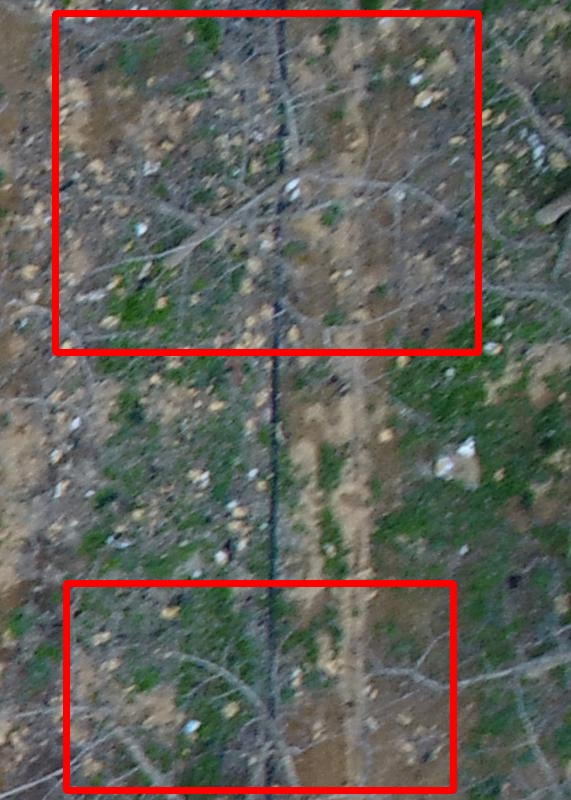apple: (55, 13, 478, 352), (66, 583, 453, 790)
